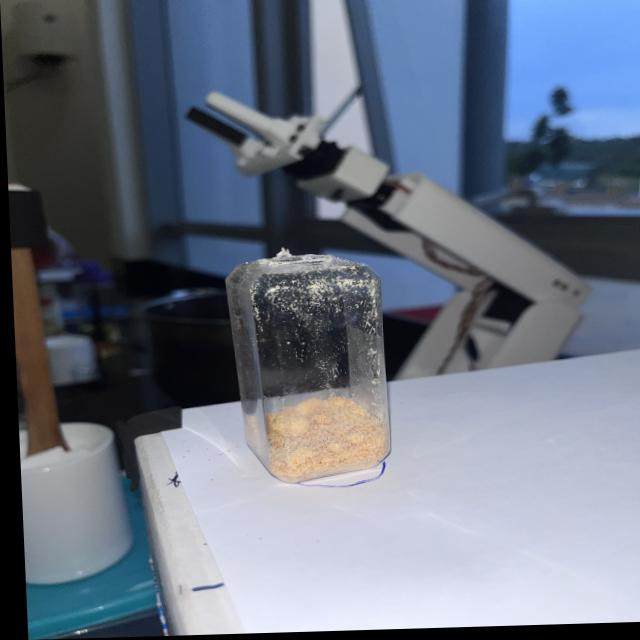garlic_powder: (241, 399, 386, 487)
